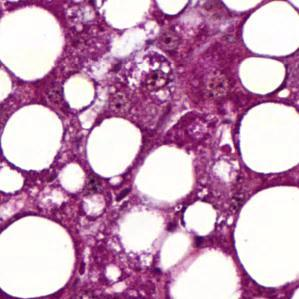steatosis: (80, 119, 152, 176), (1, 108, 66, 169)
